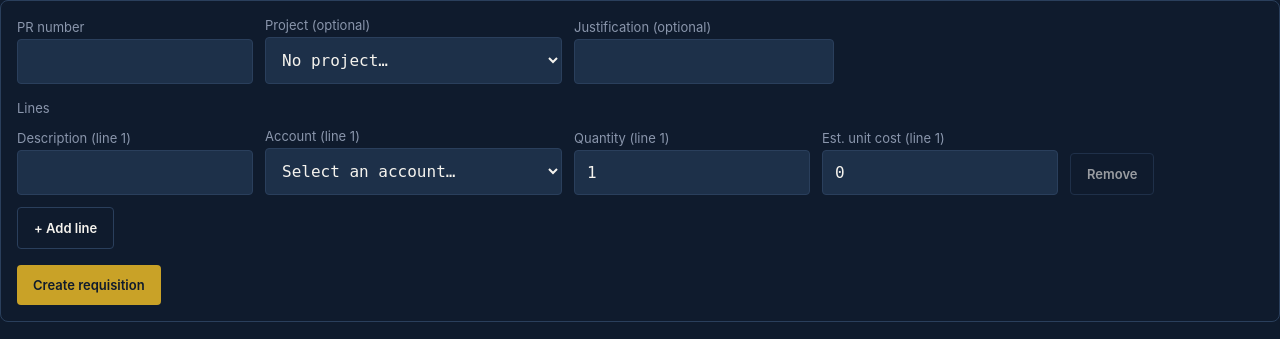
Scenario: CreateRequisitionForm › shows an error message when the action fails
Type "PR-001" into the field labelled "PR number" at (135, 62), box [17,39,253,84]
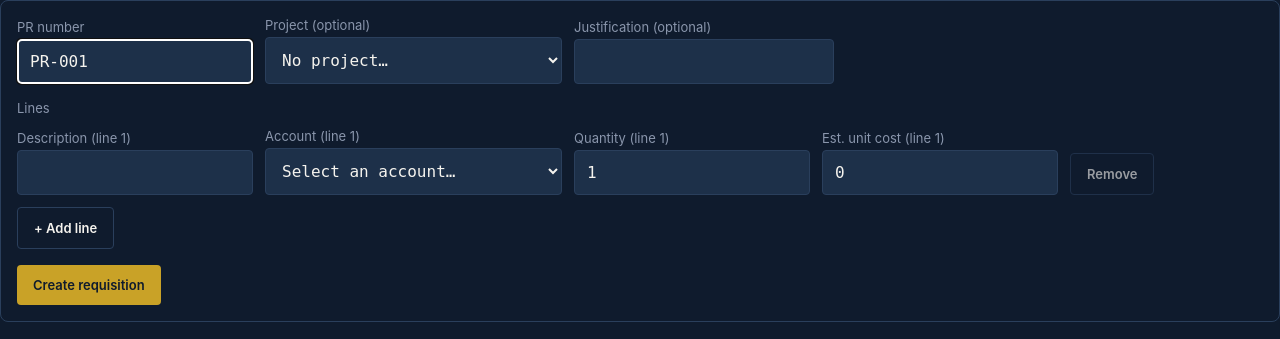
Type "Printer paper" into the field labelled "Description (line 1)" at (135, 172), box [17,150,253,195]
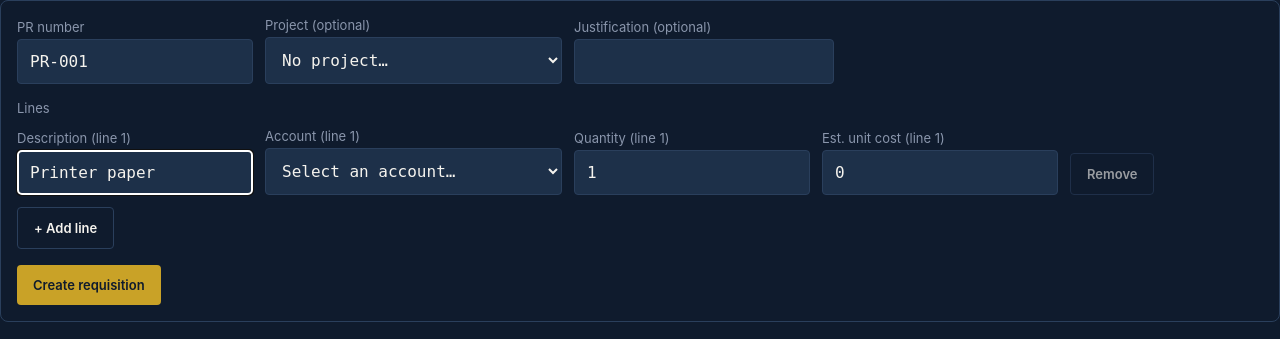
Select "5000-100 — Office supplies" in the dropdown labelled "Account (line 1)" at (414, 172), box [265,148,562,195]
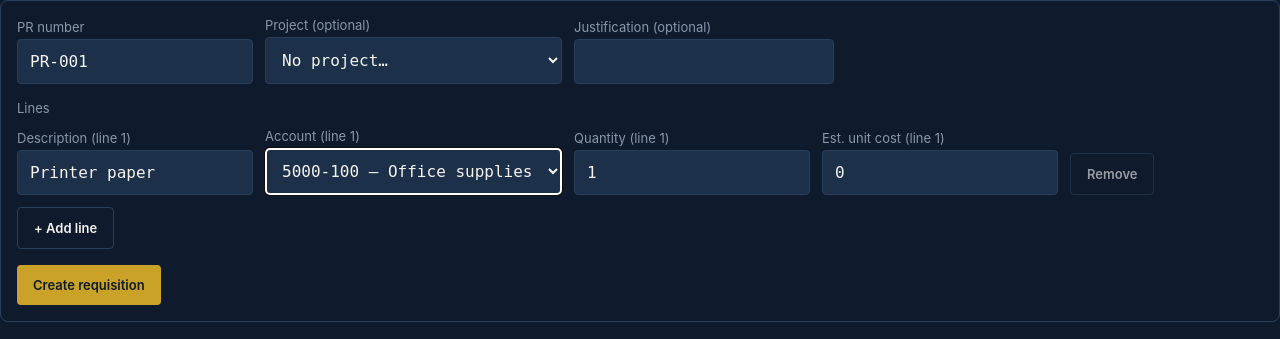
Click the button "Create requisition" at (89, 285), box [17,265,161,305]
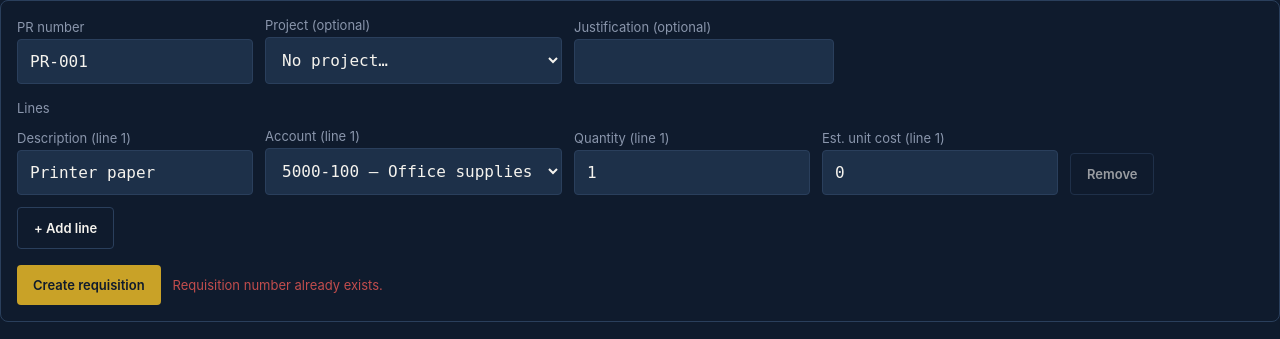
expect the text "Requisition number already exists." is shown: met, box [173,277,383,293]
